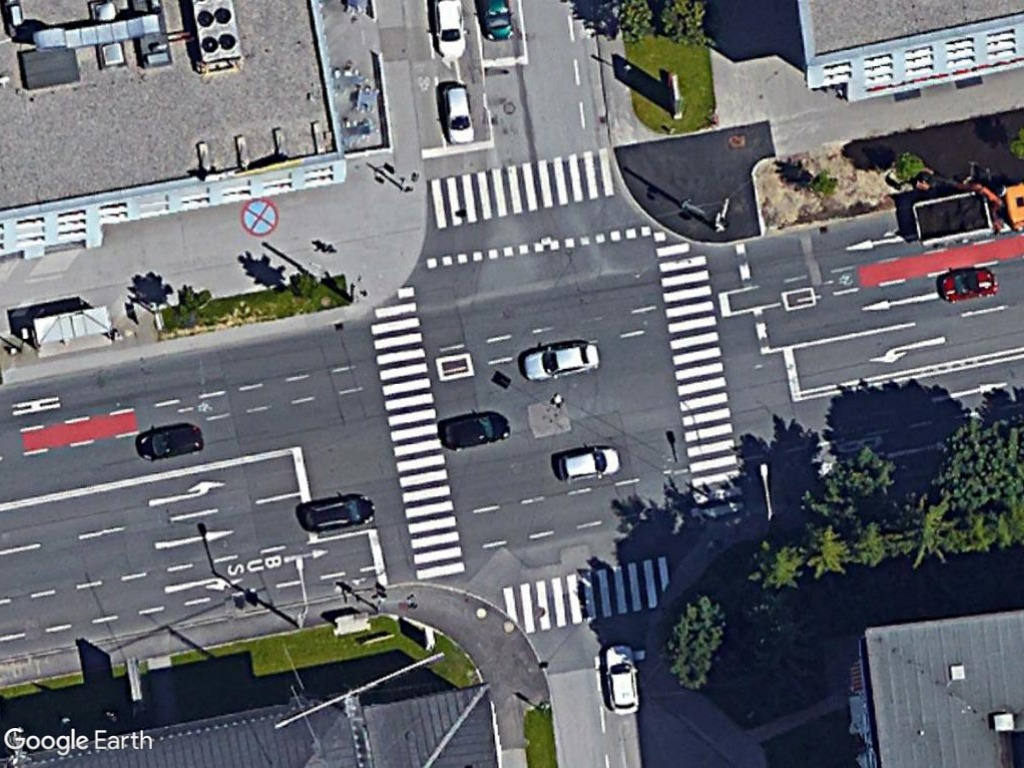car: (517, 334, 609, 385), (293, 488, 377, 539), (435, 405, 513, 452), (600, 639, 643, 720), (551, 437, 623, 483), (436, 81, 478, 152)
